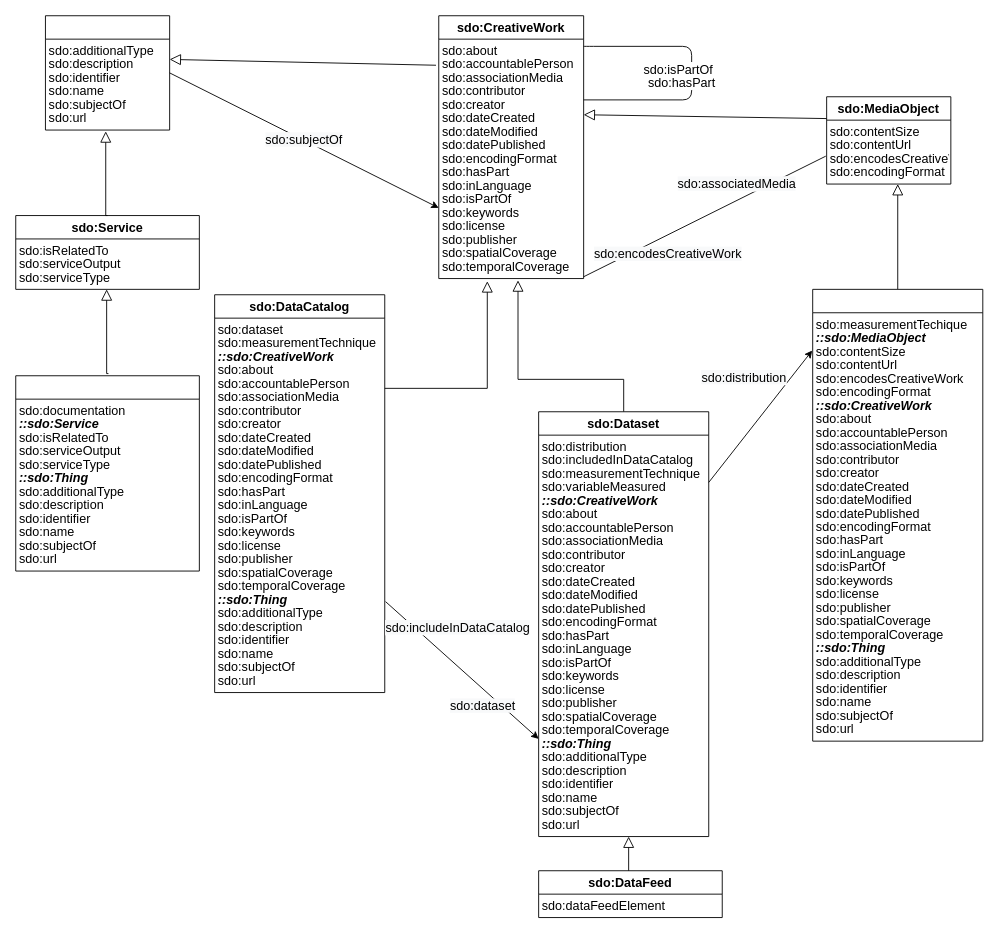
Image size: 999x938. Some labels were removed from this diagram. The shapes that lost their labels are listed below. From the top down, each one's box as (x1, y1, x2, y2) in pixels, then its label:
(45, 15, 170, 130): sdo:Thing
(15, 375, 199, 571): sdo:WebAPI
(812, 288, 983, 741): sdo:DataDownload
